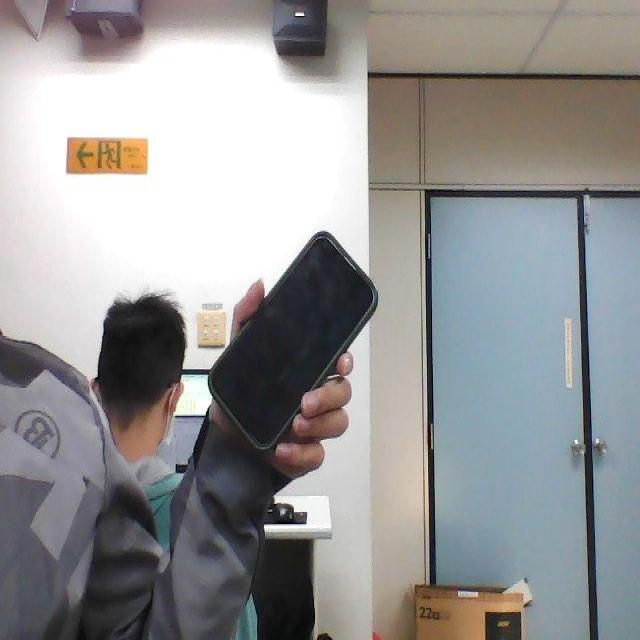Smartphone: (184, 218, 391, 471)
